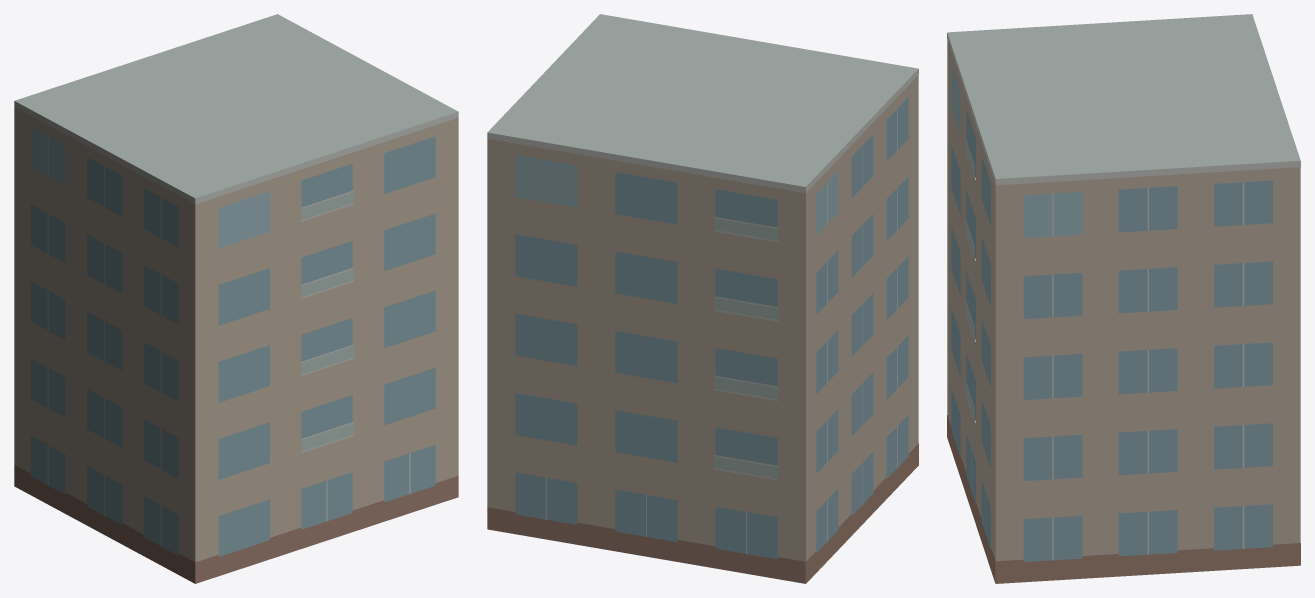
File: survey-upis-32532703.glb
The picture shows the model from 3 angles, left to right: view 1: azimuth 30°, elevation 25°; view 2: azimuth 150°, elevation 25°; view 3: azimuth 270°, elevation 25°; orthographic projection. The views are drawn at different scales.
Visible parts, largest first — view 1: survey-upis-32532703.tmp; view 2: survey-upis-32532703.tmp; view 3: survey-upis-32532703.tmp.
Part boxes in pixels (x1,y1,x2,y2): survey-upis-32532703.tmp: (14,14,458,583); survey-upis-32532703.tmp: (487,14,918,583); survey-upis-32532703.tmp: (947,14,1300,583).
Size of the model in its own units: 13.82 by 15.79 by 12.51.
